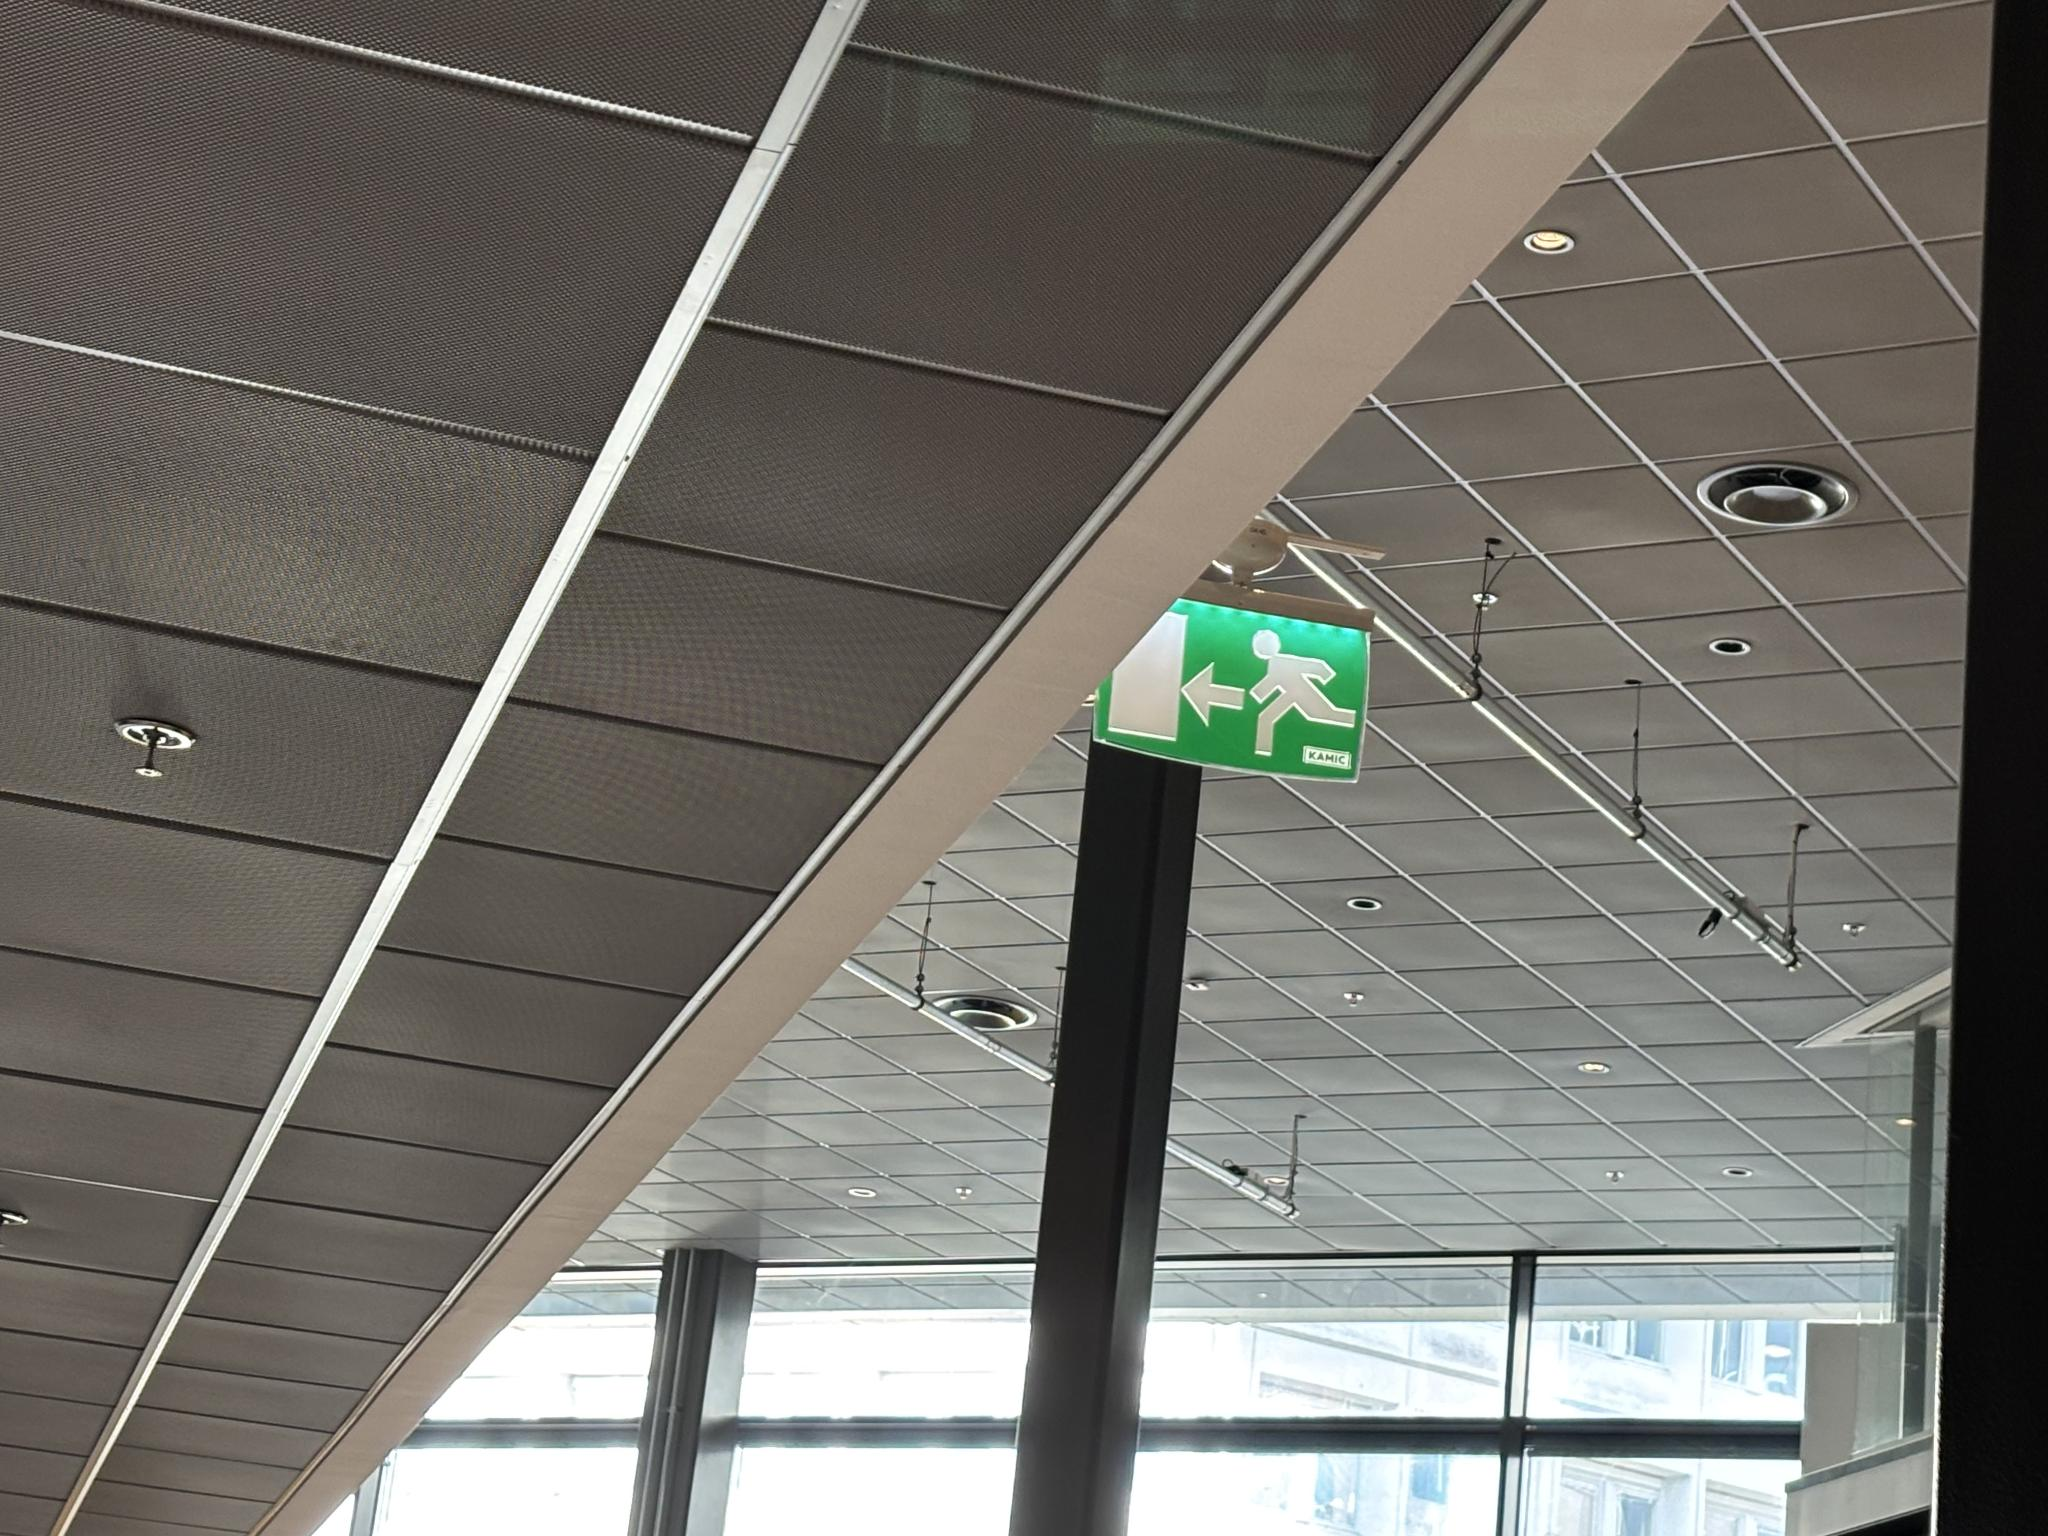exit_sign: (1097, 602, 1369, 776)
